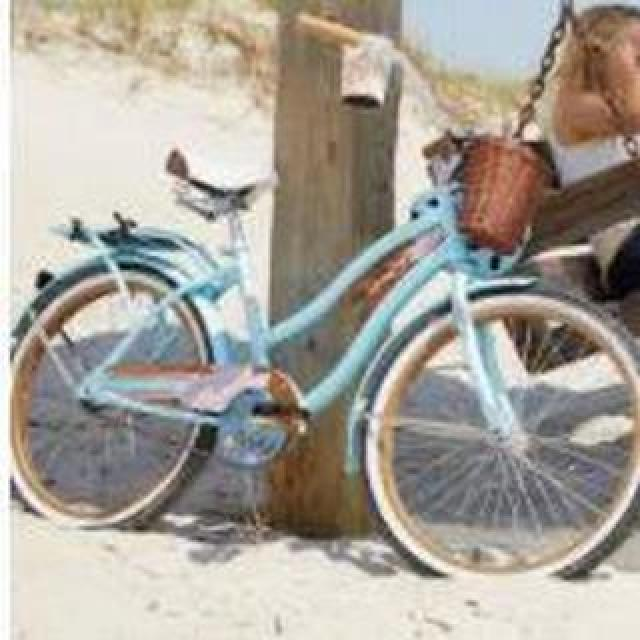Person: (14, 32, 640, 594)
